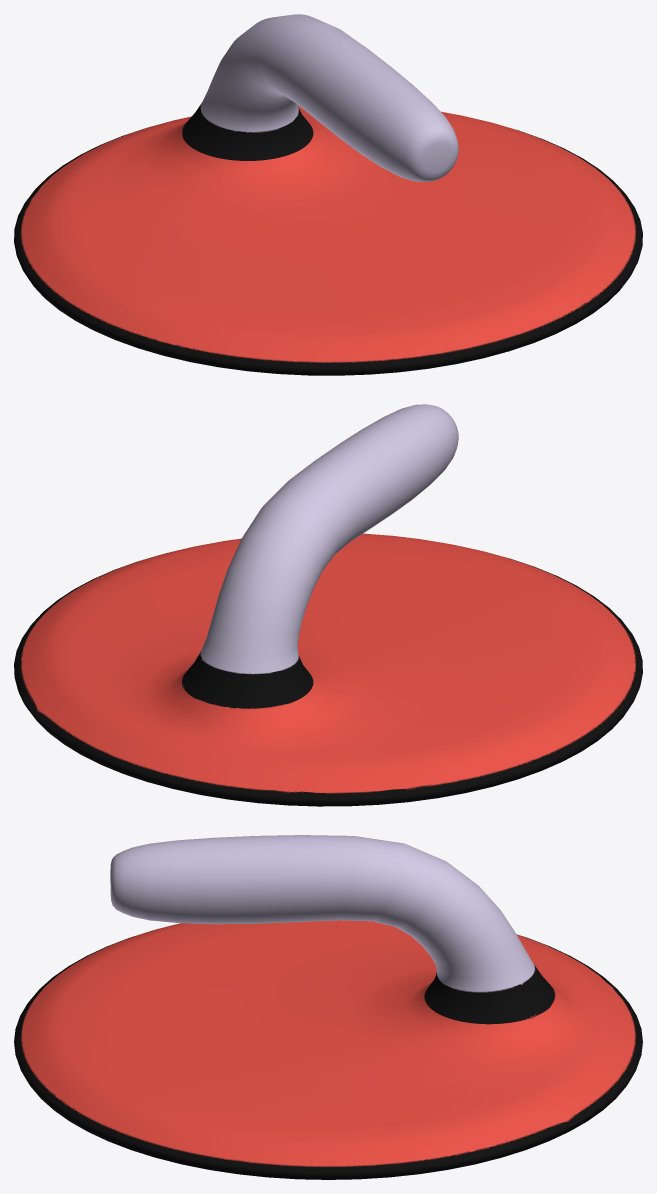
The model's file is handle.fbx.
The picture shows the model from 3 angles, top to bottom: view 1: azimuth 30°, elevation 25°; view 2: azimuth 150°, elevation 25°; view 3: azimuth 270°, elevation 25°; orthographic projection.
Parts seen in each view (by area): view 1: Handle; view 2: Handle; view 3: Handle.
Boxes of the visible parts, <box> form: Handle: <box>14,14,642,375</box>; Handle: <box>14,404,642,806</box>; Handle: <box>14,835,642,1179</box>.
Size of the model in its own units: 21.37 by 7.85 by 21.37.
